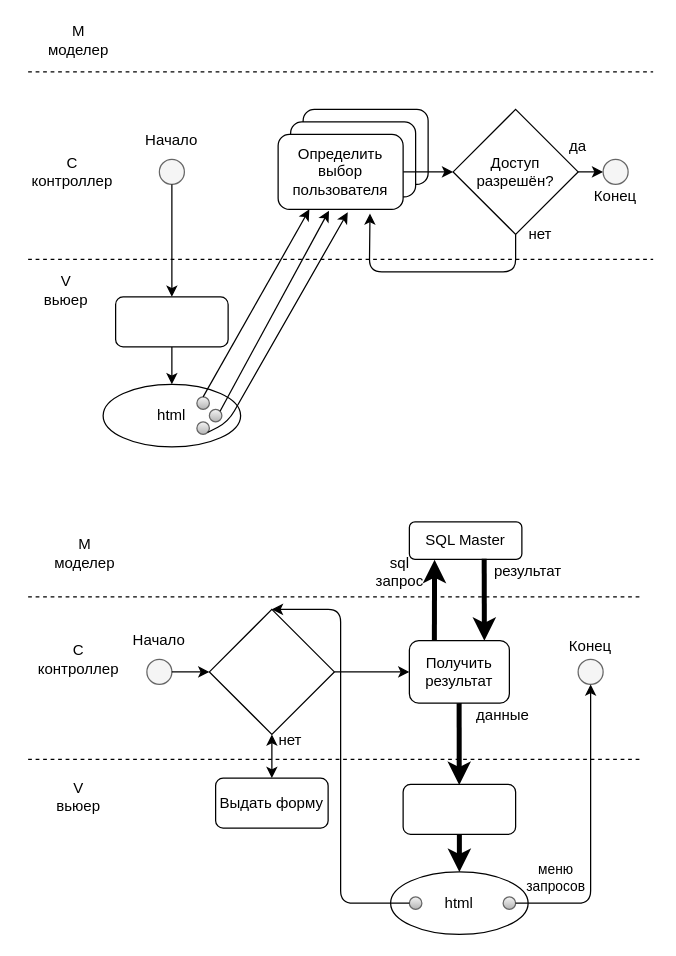
The diagram is 676 pixels wide and 956 high, and some of its shapes have lost their labels. Here are the shapes that lost their labels. From the top down, the centre of each, then its label:
At (x=171, y=321): "Выдать меню".
At (x=271, y=671): "Параметры введены?".
At (x=459, y=808): "Выдать данные".
